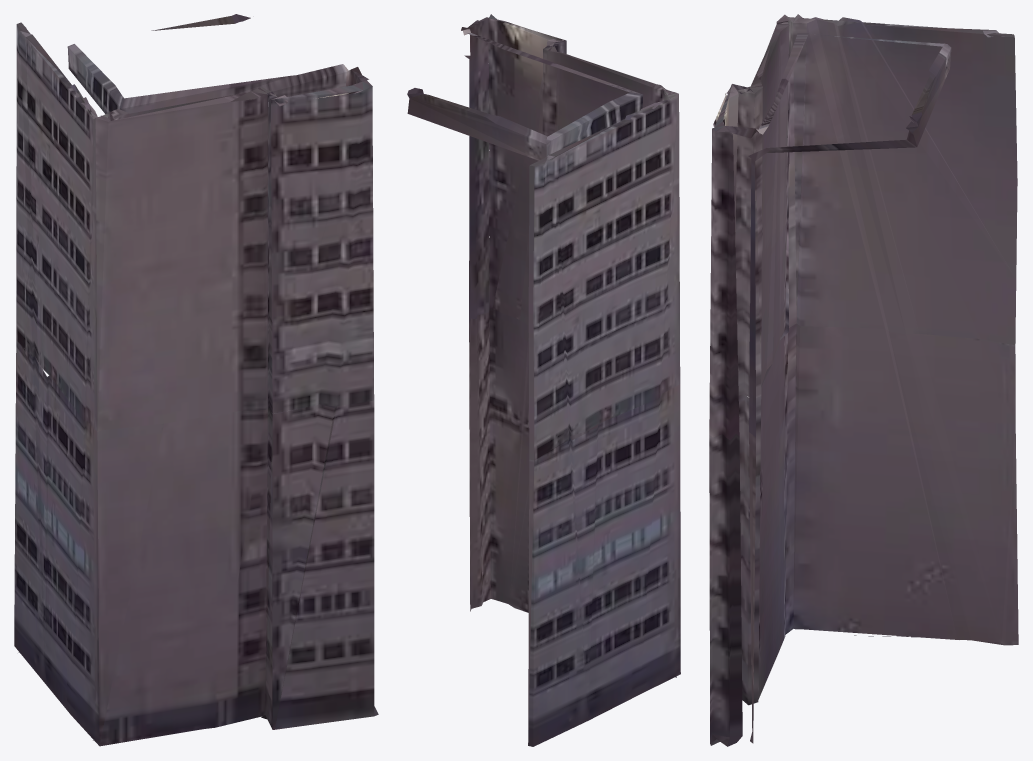
3 views of the same model, side by side, from view 1: azimuth 30°, elevation 25°; view 2: azimuth 150°, elevation 25°; view 3: azimuth 270°, elevation 25° (orthographic). The views are drawn at different scales.
Visible parts, largest first — view 1: Mesh_0; view 2: Mesh_0; view 3: Mesh_0.
Part boxes in pixels (x1,y1,x2,y2): Mesh_0: (14,14,378,746); Mesh_0: (407,14,680,746); Mesh_0: (709,14,1018,746).
Bounding box in the file's own units: 15.23 × 36.95 × 16.75.
Materials: 2 (2 with a texture image).
